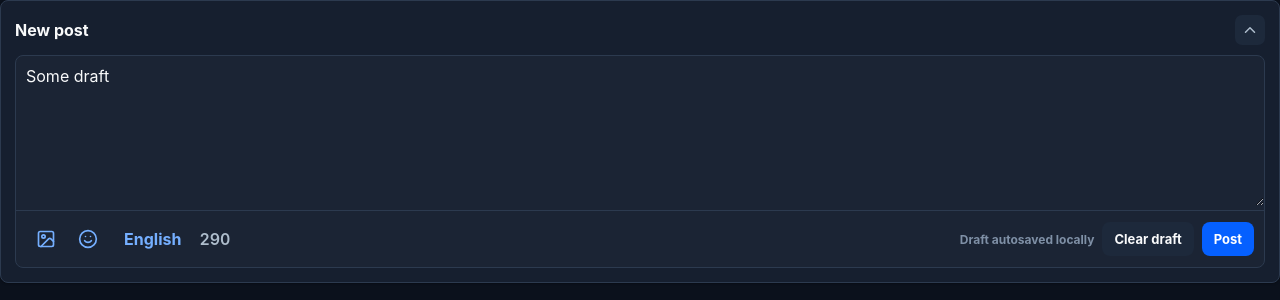
PostComposer new-post mode › shows the Draft saved badge on the collapsed banner once a draft has been cleared to empty
The image size is (1280, 300).
Step 1. Replace the text in the text box with placeholder "What's on your mind?" with "Final text" → (640, 131), box [16,56,1264,206]
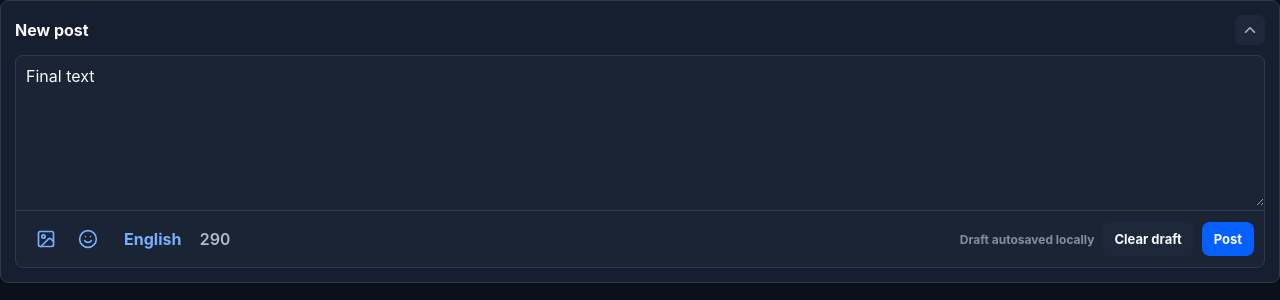
Step 2. Click the button "Post" → (1228, 239), box [1202,222,1254,256]
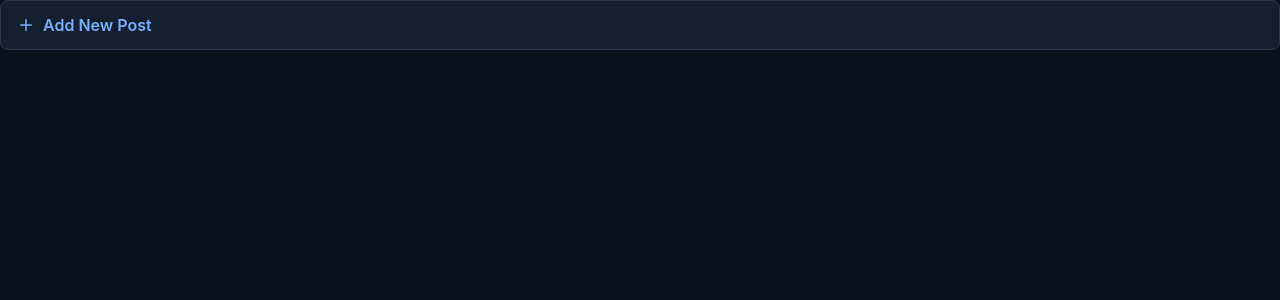
Check: the button "Add New Post" is shown, box [15,11,1265,39]
